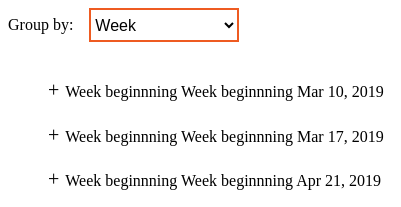
it: TreeViewer › The list is changed when a different type is selected
Select "Author" in the dropdown with test id "select" at (164, 25), box [89,8,239,42]
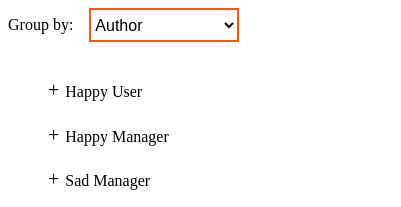
Expected: the number of headings "+Happy Manager" is 1, [48,124,169,146]
Now the heading "Week beginnning" is gone
Select "Location" in the dropdown with test id "select" at (164, 25), box [89,8,239,42]
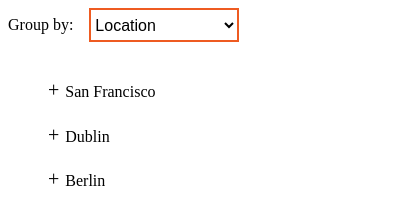
Expected: the number of headings "+Berlin" is 1, [48,168,105,190]
Now the heading "Sad Manager" is gone
